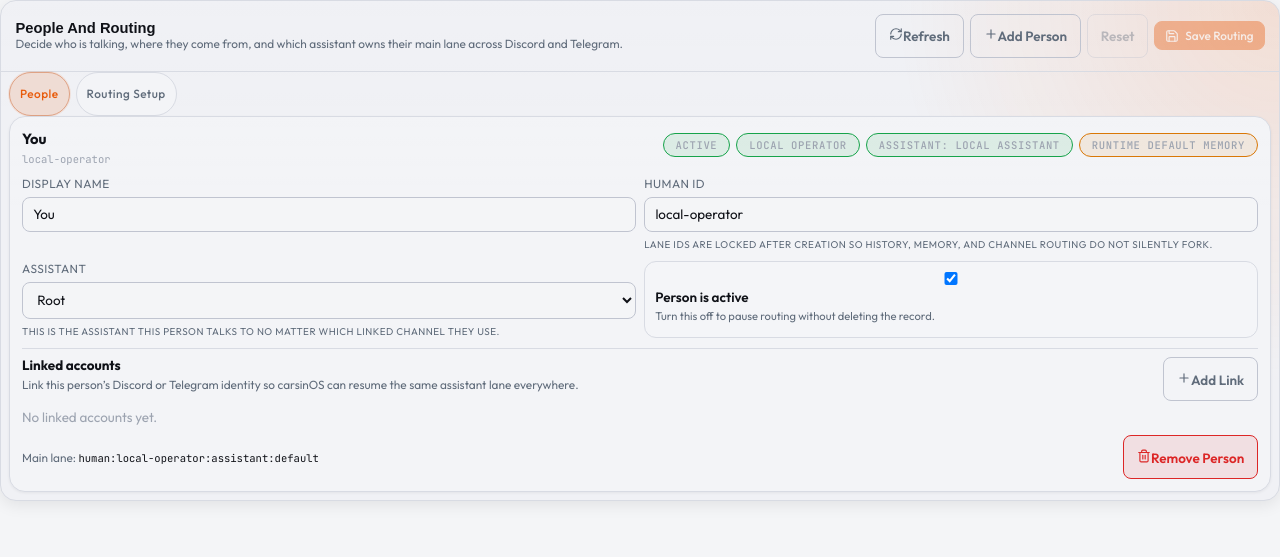
PeopleRoutingSection authoritative Directory home › blocks a save instead of dropping a lane policy for an unavailable agent
Step 1. Select "Root" in the dropdown → (329, 300), box left=22, top=282, right=636, bottom=319
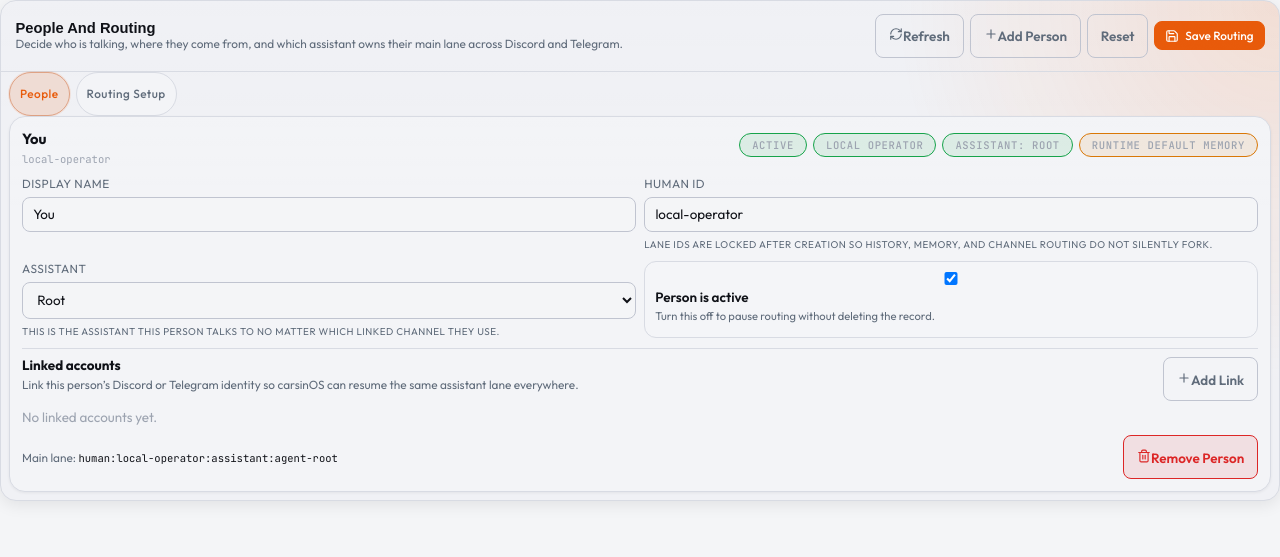
Step 2. Click the button "Save Routing" → (1209, 36), box left=1154, top=21, right=1265, bottom=50
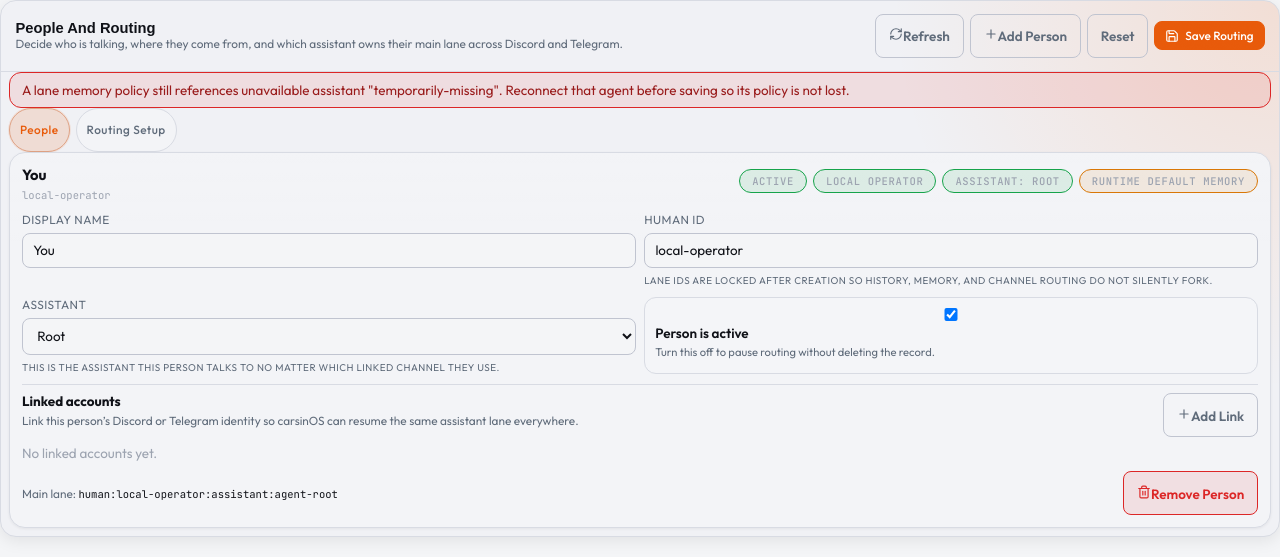
Expected: the text "A lane memory policy still references unavailable assistant \"temporarily-missing\"." is shown, left=22, top=82, right=850, bottom=98
